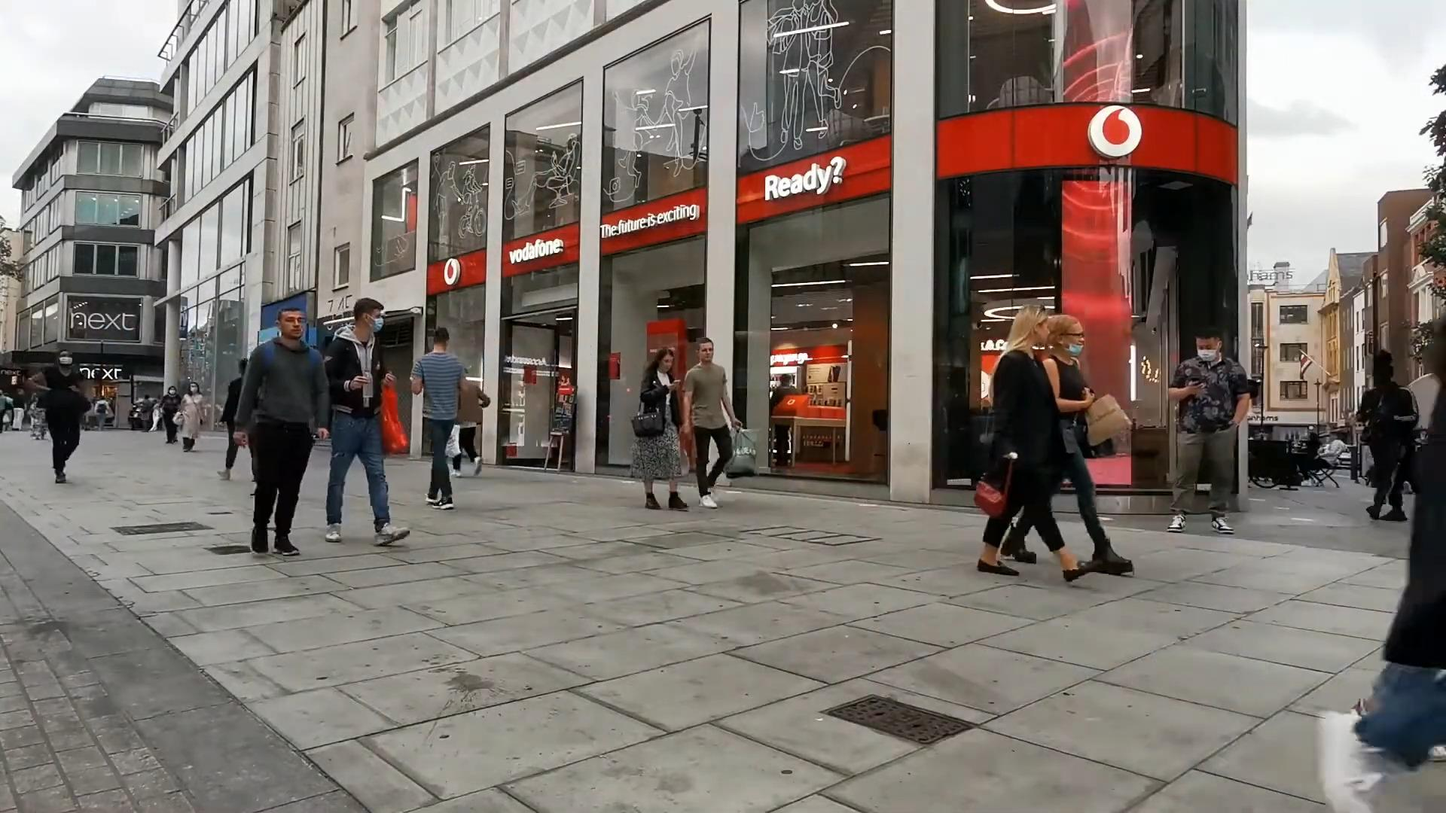no-helmet: (1010, 303, 1051, 346), (1048, 314, 1085, 358), (353, 298, 386, 333), (1194, 325, 1223, 363), (275, 307, 306, 340), (654, 348, 675, 373), (432, 326, 451, 351), (696, 337, 714, 362), (58, 349, 73, 367), (187, 382, 200, 397), (167, 385, 177, 395)
